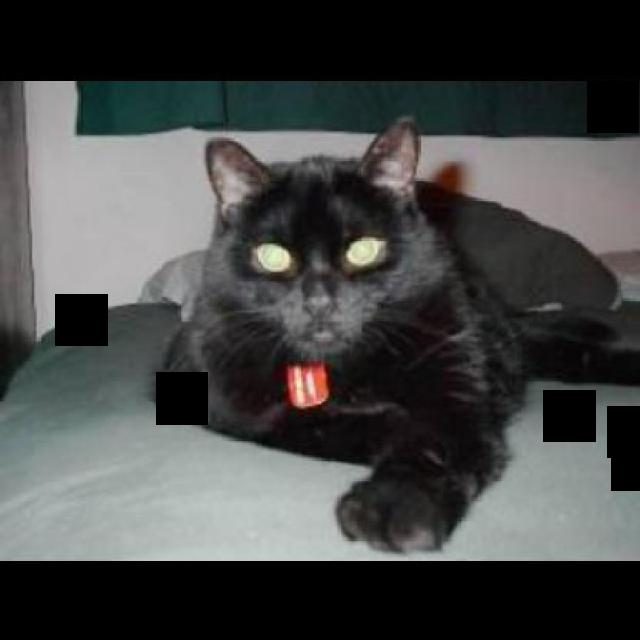unauthorized: (150, 114, 638, 554)
